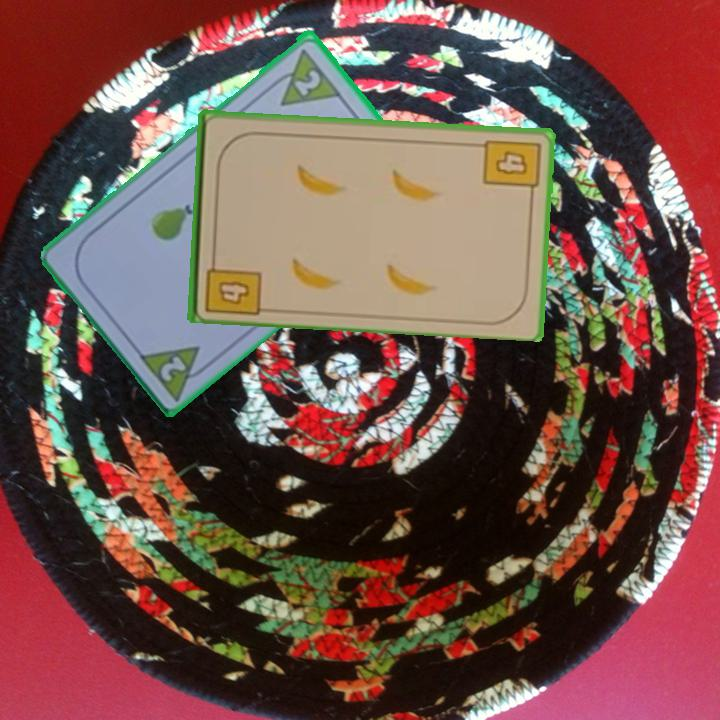2p: (264, 43, 343, 109), (134, 341, 217, 403)
4b: (201, 250, 263, 317), (480, 136, 543, 200)
